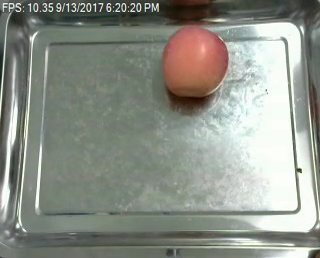Apple: (159, 21, 230, 103)
